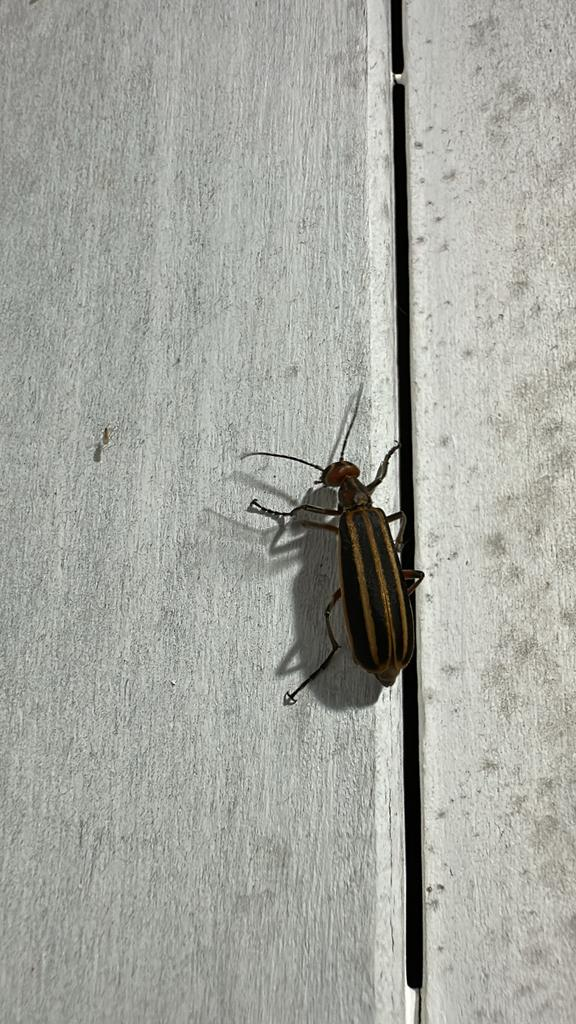blister_beetle: (212, 345, 543, 773)
